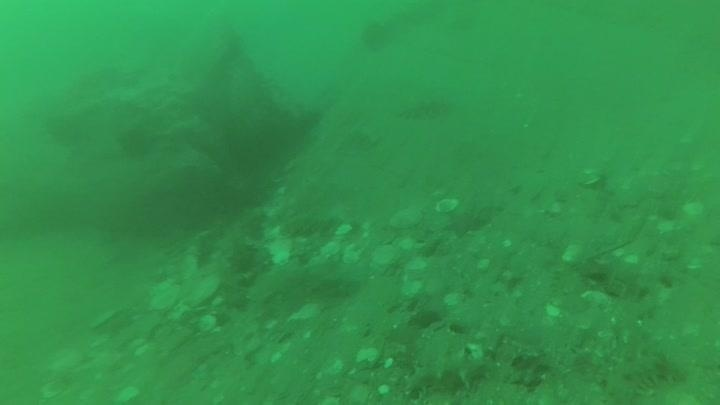echinus: (116, 124, 158, 162), (358, 18, 395, 54)
holothurian: (401, 340, 495, 398), (601, 350, 689, 404), (394, 92, 455, 123)
